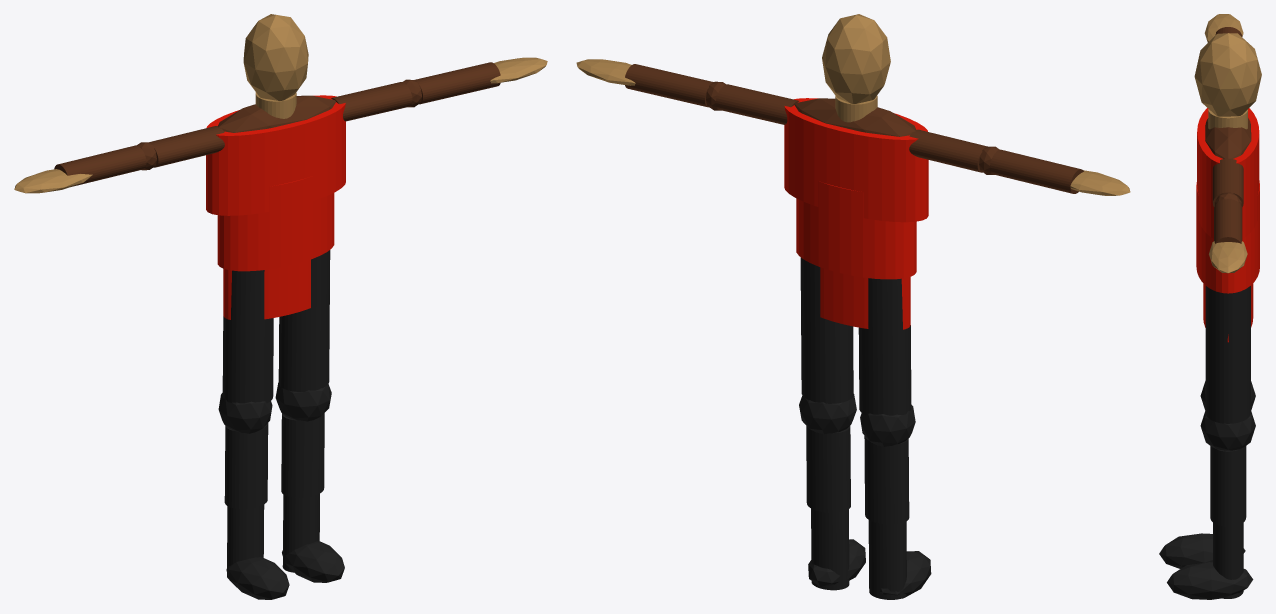
The model's file is character.fbx.
3 renders of one model, left to right at view 1: azimuth 30°, elevation 25°; view 2: azimuth 150°, elevation 25°; view 3: azimuth 270°, elevation 25°, orthographic. The views are drawn at different scales.
Visible parts, largest first — view 1: Cylinder.010, Cylinder.004, Cylinder.001, Cylinder.003, Icosphere, Cylinder.002, Cylinder.008, Cylinder.011, Cylinder.013, Icosphere.001, Icosphere.008, Cylinder.005 (+10 smaller); view 2: Cylinder.010, Cylinder.004, Cylinder.001, Cylinder.003, Icosphere, Cylinder.002, Cylinder.008, Cylinder.011, Cylinder.009, Cylinder.005, Cylinder.007, Cylinder.013 (+10 smaller); view 3: Cylinder.003, Icosphere, Cylinder.010, Cylinder.002, Cylinder.004, Icosphere.009, Cylinder.005, Icosphere.008, Icosphere.007, Icosphere.001, Cylinder.013, Cylinder.012 (+6 smaller).
Boxes of the visible parts, x1=… form: Cylinder.010: x1=206, y1=95, x2=345, y2=215; Cylinder.004: x1=217, y1=176, x2=334, y2=271; Cylinder.001: x1=222, y1=270, x2=273, y2=403; Cylinder.003: x1=278, y1=250, x2=330, y2=391; Icosphere: x1=243, y1=14, x2=308, y2=100; Cylinder.002: x1=281, y1=413, x2=324, y2=497; Cylinder.008: x1=224, y1=423, x2=268, y2=509; Cylinder.011: x1=223, y1=259, x2=310, y2=319; Cylinder.013: x1=415, y1=62, x2=500, y2=104; Icosphere.001: x1=218, y1=95, x2=335, y2=132; Icosphere.008: x1=226, y1=557, x2=289, y2=599; Cylinder.005: x1=282, y1=493, x2=319, y2=572; Cylinder.010: x1=784, y1=98, x2=928, y2=222; Cylinder.004: x1=796, y1=181, x2=916, y2=279; Cylinder.001: x1=858, y1=278, x2=911, y2=415; Cylinder.003: x1=800, y1=257, x2=853, y2=403; Icosphere: x1=822, y1=14, x2=890, y2=103; Cylinder.002: x1=806, y1=426, x2=850, y2=512; Cylinder.008: x1=864, y1=436, x2=909, y2=524; Cylinder.011: x1=820, y1=267, x2=910, y2=329; Cylinder.009: x1=868, y1=520, x2=906, y2=599; Cylinder.005: x1=811, y1=508, x2=849, y2=590; Cylinder.007: x1=990, y1=149, x2=1083, y2=193; Cylinder.013: x1=625, y1=64, x2=713, y2=107; Cylinder.003: x1=1205, y1=286, x2=1250, y2=423; Icosphere: x1=1194, y1=33, x2=1261, y2=116; Cylinder.010: x1=1197, y1=108, x2=1259, y2=238; Cylinder.002: x1=1210, y1=446, x2=1246, y2=526; Cylinder.004: x1=1196, y1=180, x2=1259, y2=293; Icosphere.009: x1=1167, y1=562, x2=1253, y2=599; Cylinder.005: x1=1213, y1=522, x2=1243, y2=598; Icosphere.008: x1=1159, y1=533, x2=1245, y2=568; Icosphere.007: x1=1200, y1=410, x2=1255, y2=450; Icosphere.001: x1=1205, y1=118, x2=1251, y2=158; Cylinder.013: x1=1214, y1=199, x2=1242, y2=243; Cylinder.012: x1=1212, y1=158, x2=1243, y2=207.
Bounding box in the file's own units: 454 × 455 × 77.15.
